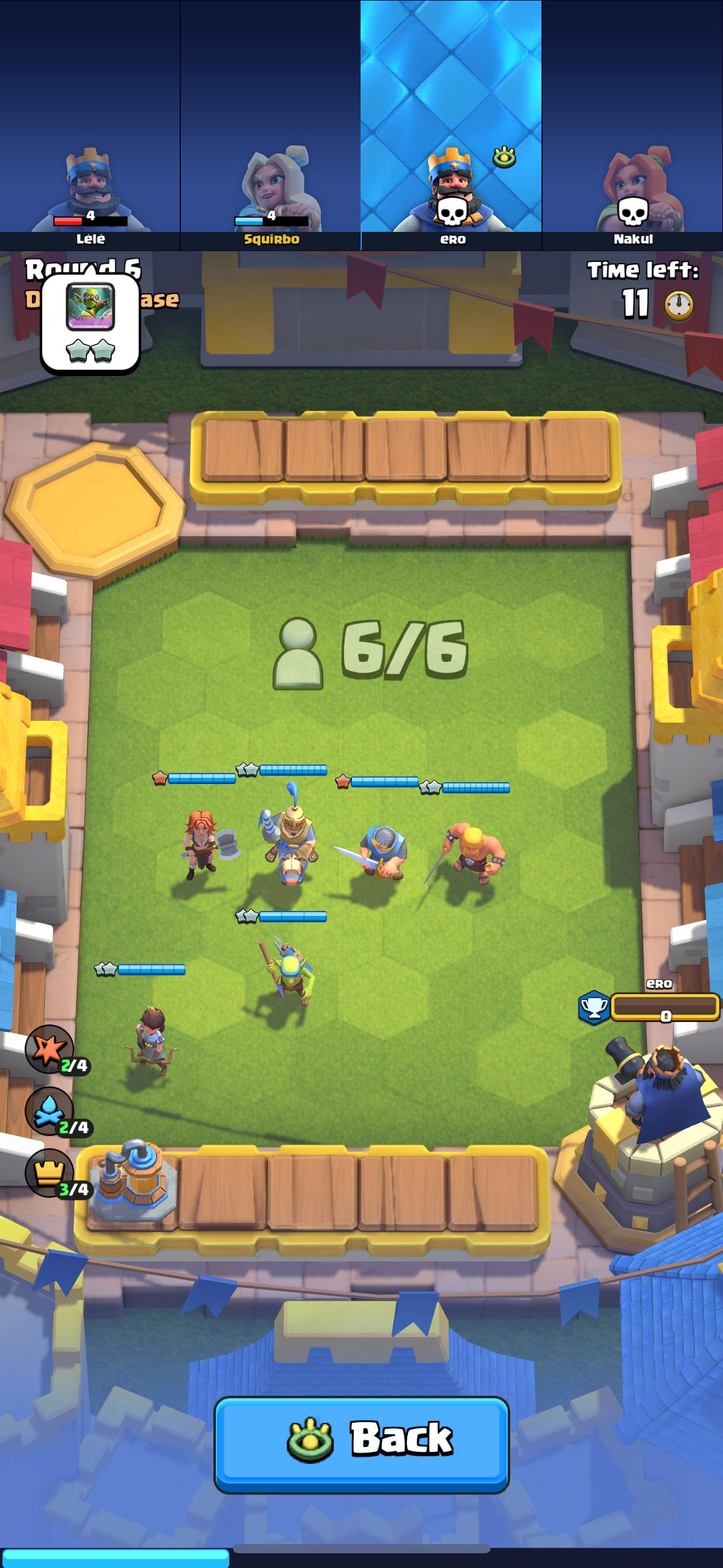barbarian: (441, 817, 507, 882)
collector: (83, 1143, 178, 1217)
knight: (344, 814, 413, 884)
prince: (256, 779, 319, 886)
princess: (120, 999, 179, 1079)
spear: (253, 932, 321, 1011)
valkyrie: (183, 805, 232, 880)
